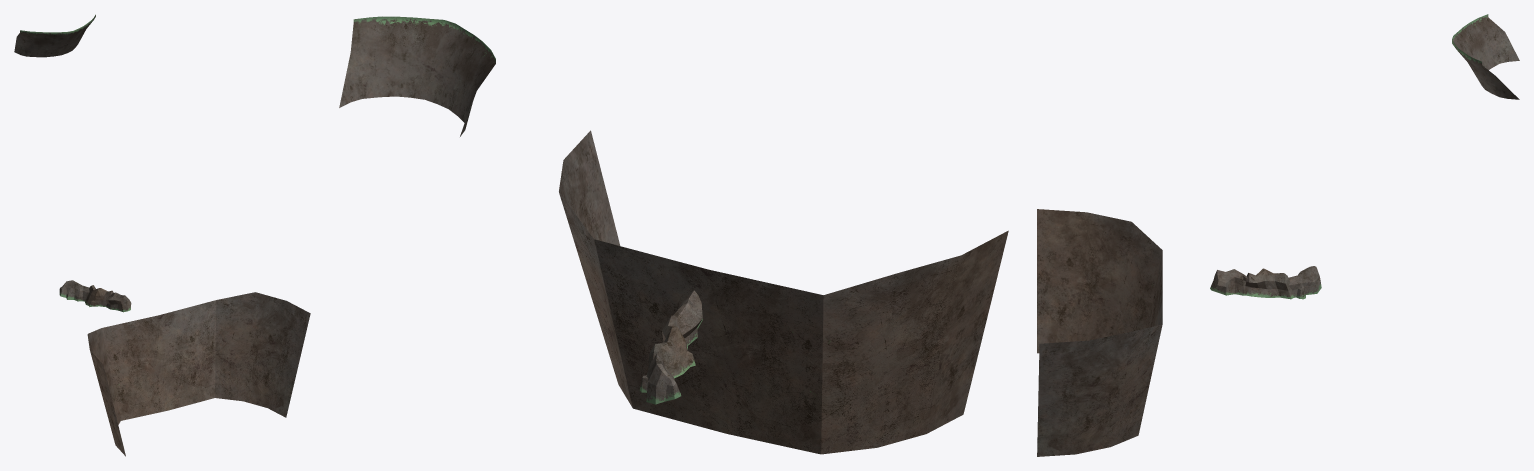
The model's file is BgMD_island01_02.fbx.
3 renders of one model, left to right at view 1: azimuth 30°, elevation 25°; view 2: azimuth 150°, elevation 25°; view 3: azimuth 270°, elevation 25°, orthographic. The views are drawn at different scales.
Visible parts, largest first — view 1: island01_02_1, island01_02_2, island01_02_4, island01_02_3, island01_02_5; view 2: island01_02_1, island01_02_2, island01_02_3, island01_02_4, island01_02_5; view 3: island01_02_1, island01_02_2, island01_02_3, island01_02_5, island01_02_4.
Part boxes in pixels (x1,y1,x2,y2): island01_02_1: (87,292,310,456); island01_02_2: (14,14,95,57); island01_02_4: (59,280,89,301); island01_02_3: (85,285,113,306); island01_02_5: (105,292,131,312); island01_02_1: (559,130,1008,454); island01_02_2: (339,16,495,136); island01_02_3: (647,315,695,378); island01_02_4: (639,354,681,404); island01_02_5: (673,290,702,345); island01_02_1: (1037,209,1162,456); island01_02_2: (1452,14,1519,99); island01_02_3: (1245,268,1293,299); island01_02_5: (1210,269,1251,295); island01_02_4: (1288,266,1321,299).
Size of the model in its own units: 14247 by 18842 by 21570.
